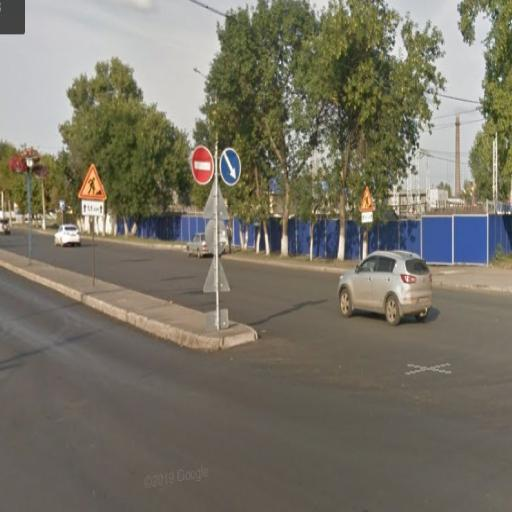traffic_sign: (77, 160, 110, 207), (190, 142, 218, 190), (359, 183, 378, 215)
